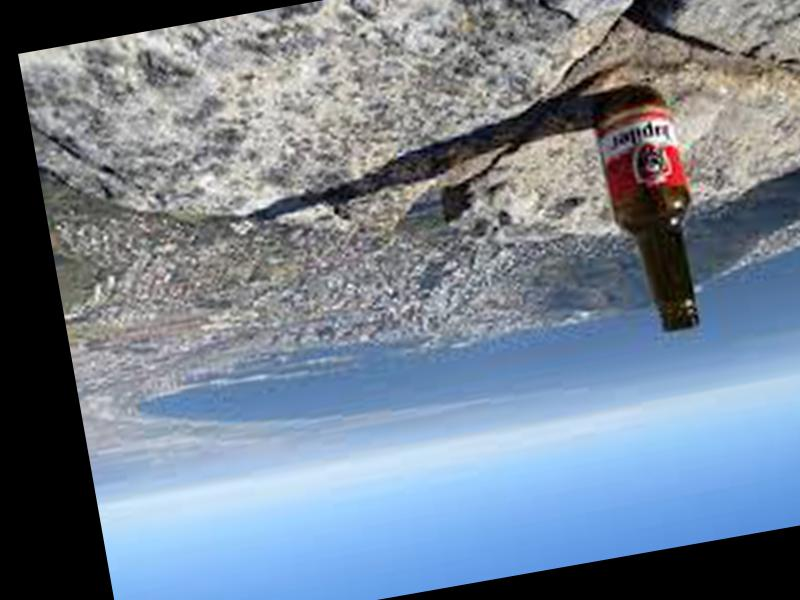Beer: (590, 88, 714, 340)
